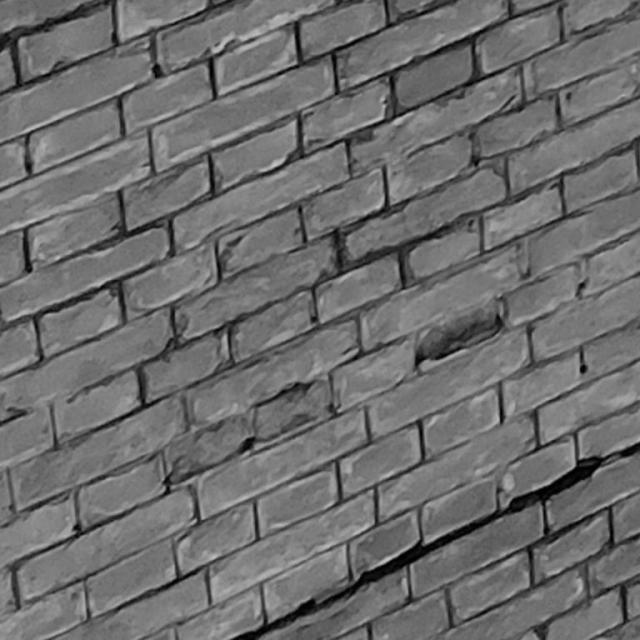crack: (231, 442, 639, 640)
